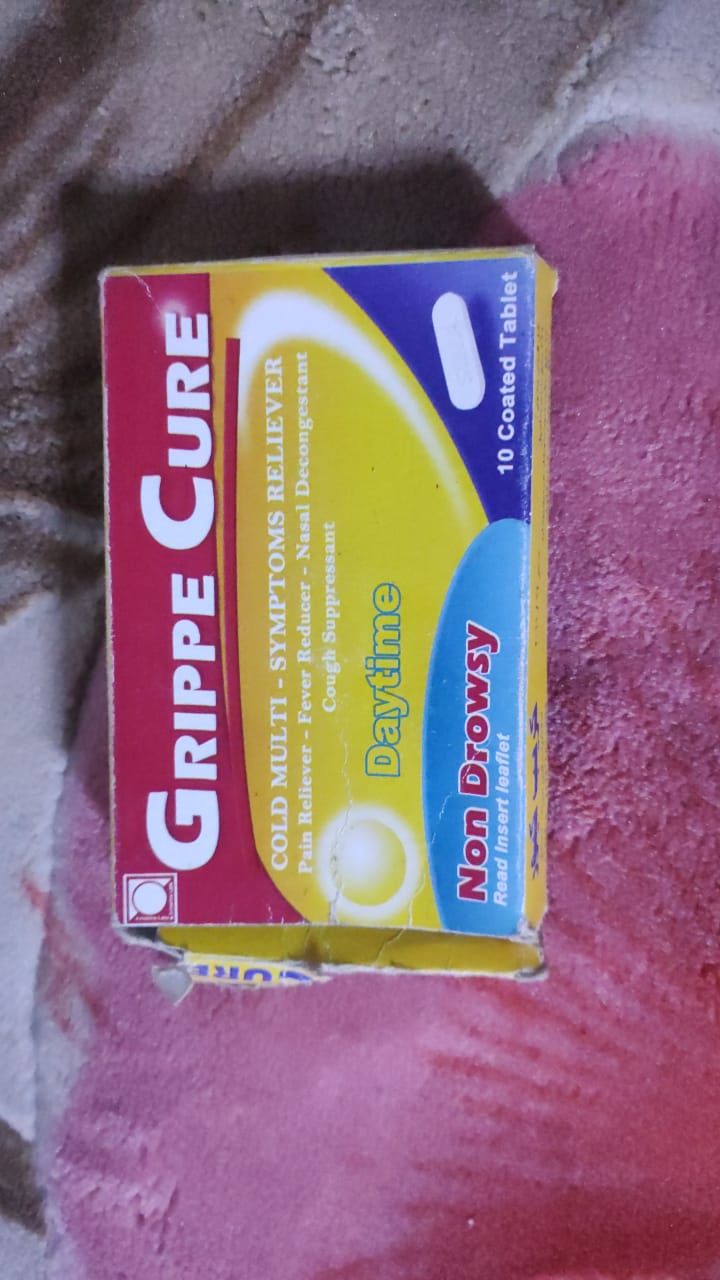Medicine: (67, 247, 580, 993)
